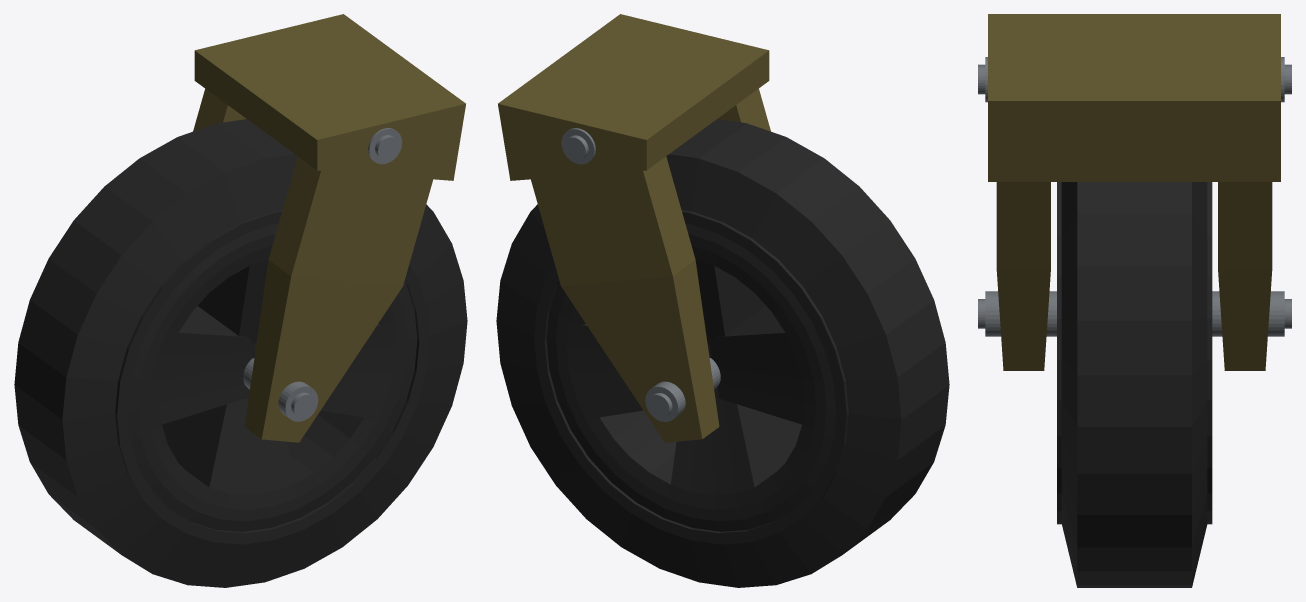
The model's file is tdm_wheel.gltf.
3 renders of one model, left to right at view 1: azimuth 30°, elevation 25°; view 2: azimuth 150°, elevation 25°; view 3: azimuth 270°, elevation 25°, orthographic. The views are drawn at different scales.
Parts seen in each view (by area): view 1: Wheels.001; view 2: Wheels.001; view 3: Wheels.001.
Part boxes in pixels (<box>): Wheels.001: <box>14,14,467,587</box>; Wheels.001: <box>496,14,949,587</box>; Wheels.001: <box>978,14,1291,587</box>.
Size of the model in its own units: 0.339 by 0.3726 by 0.1903.
